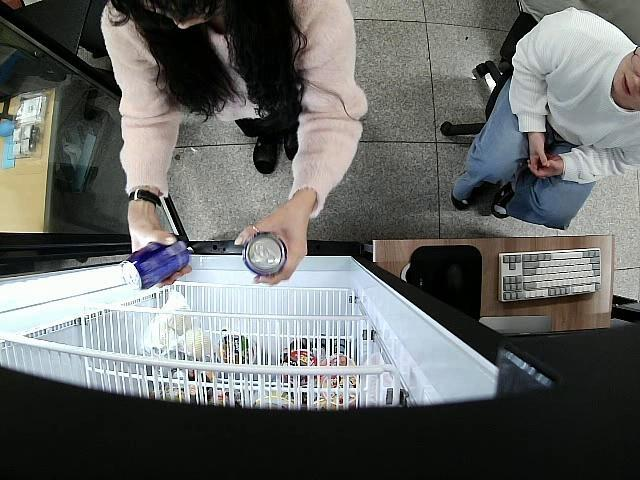14_welchsGrape: (118, 233, 192, 292), (244, 231, 287, 275)
